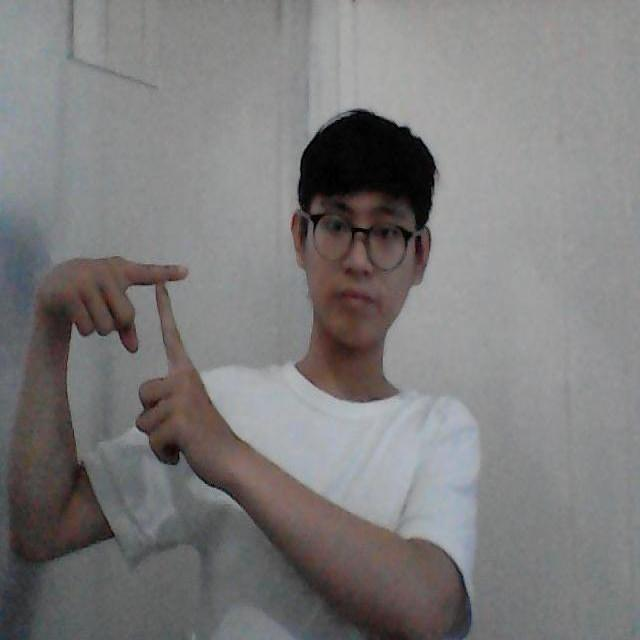T: (70, 239, 230, 474)
